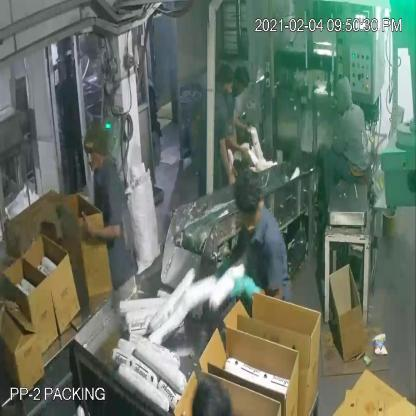glove: (224, 275, 264, 309)
no_glove: (69, 202, 124, 254), (216, 135, 237, 184), (224, 122, 250, 161), (228, 106, 250, 138)
